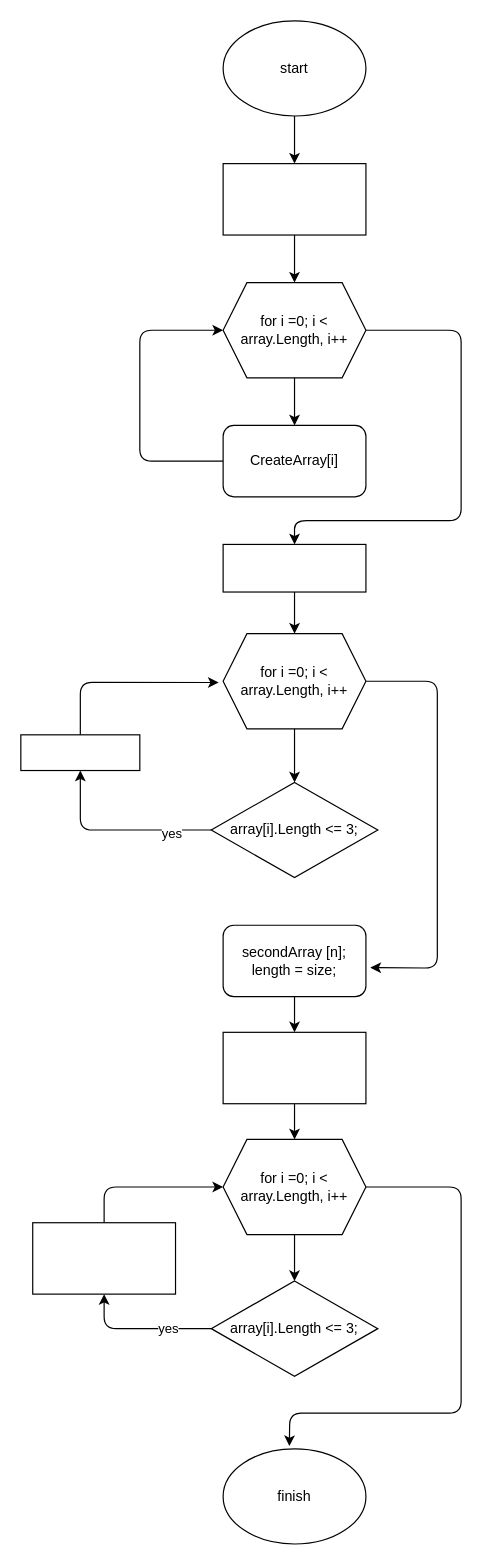
Some shapes in this 491 by 1565 pixel diagram are drawn without their labels. The shapes that lost their labels are listed below. From the top down, each one's centre as x and y in pixels, then its label:
At pixel 294 198: "array [n]; length = 10;".
At pixel 294 567: "size =0;".
At pixel 80 752: "size ++;".
At pixel 294 1067: "index = 0;".
At pixel 104 1258: "secondArray[index] = array[i];".
